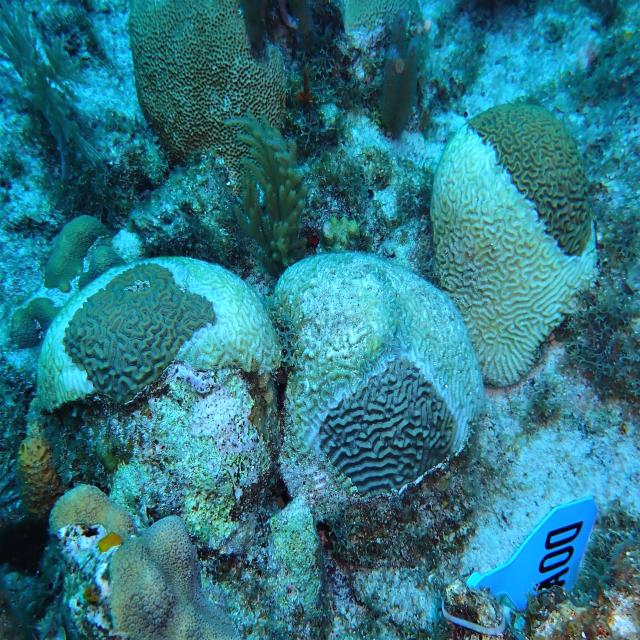Coral: (278, 252, 487, 526), (429, 103, 593, 391), (34, 255, 283, 413), (130, 0, 286, 195), (108, 515, 242, 640), (48, 484, 133, 540), (10, 297, 67, 350)
